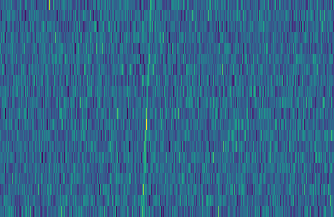signal: (137, 0, 155, 217)
